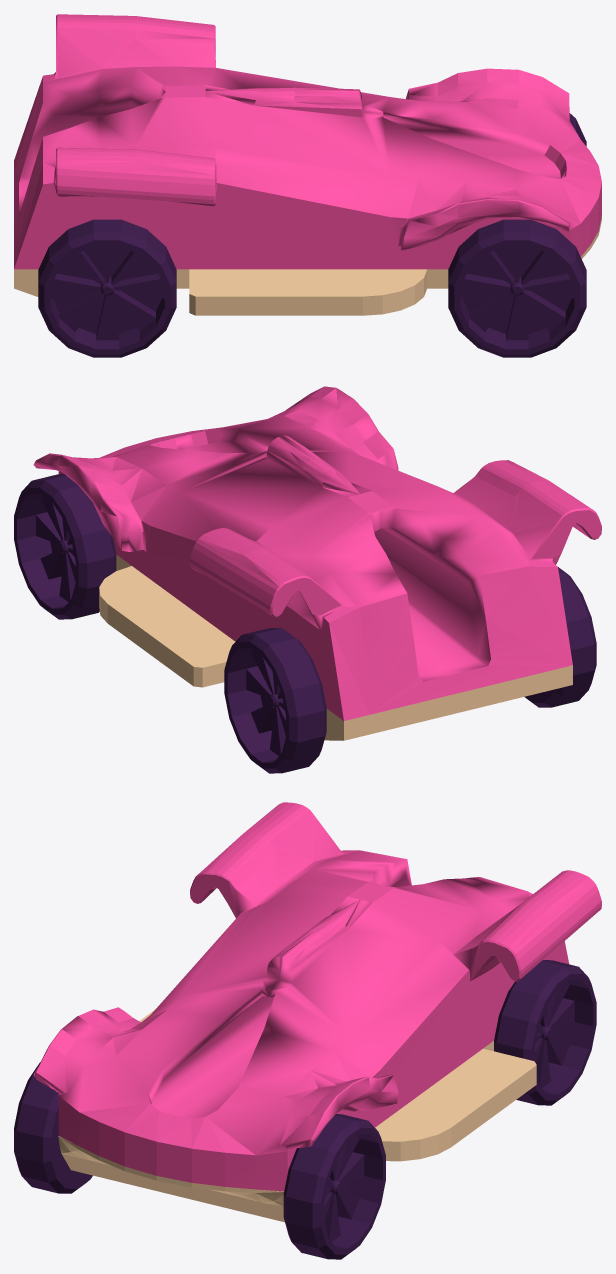
The model's file is Toy189.fbx.
3 renders of one model, top to bottom at view 1: azimuth 30°, elevation 25°; view 2: azimuth 150°, elevation 25°; view 3: azimuth 270°, elevation 25°, orthographic. The views are drawn at different scales.
Visible parts, largest first — view 1: Toy189; view 2: Toy189; view 3: Toy189.
Part boxes in pixels (left/top/right/bottom): Toy189: left=14, top=14, right=601, bottom=357; Toy189: left=14, top=386, right=601, bottom=773; Toy189: left=14, top=802, right=601, bottom=1259.
Size of the model in its own units: 0.2046 by 0.071 by 0.1821.
